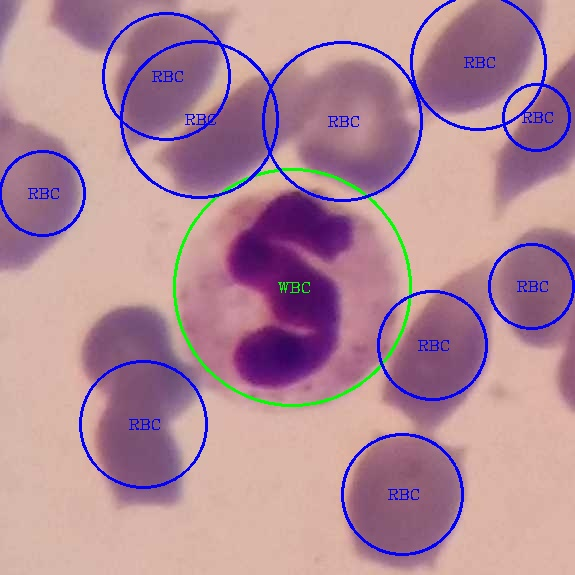RBC: (156, 61, 317, 195), (383, 256, 501, 433), (341, 429, 472, 574), (292, 54, 422, 199), (410, 0, 552, 122), (109, 10, 230, 147), (490, 51, 574, 210), (0, 115, 83, 269), (78, 298, 191, 411), (95, 390, 184, 509), (494, 221, 573, 352)
WBC: (178, 181, 391, 410)
